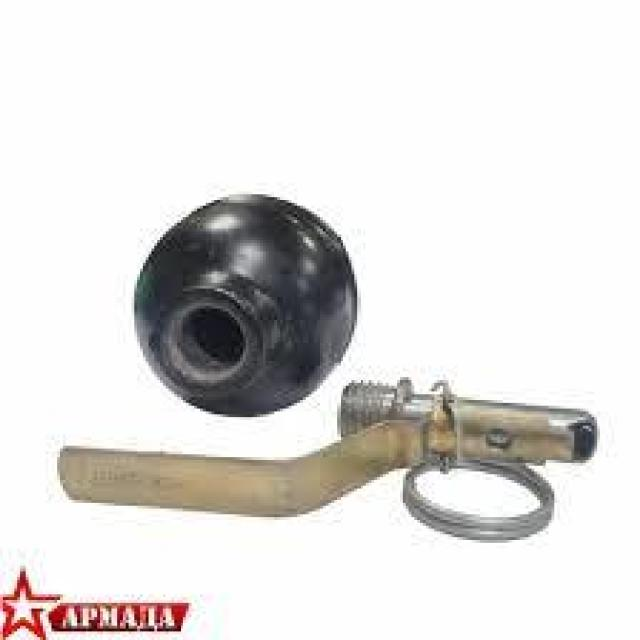grenade: (129, 191, 358, 421)
